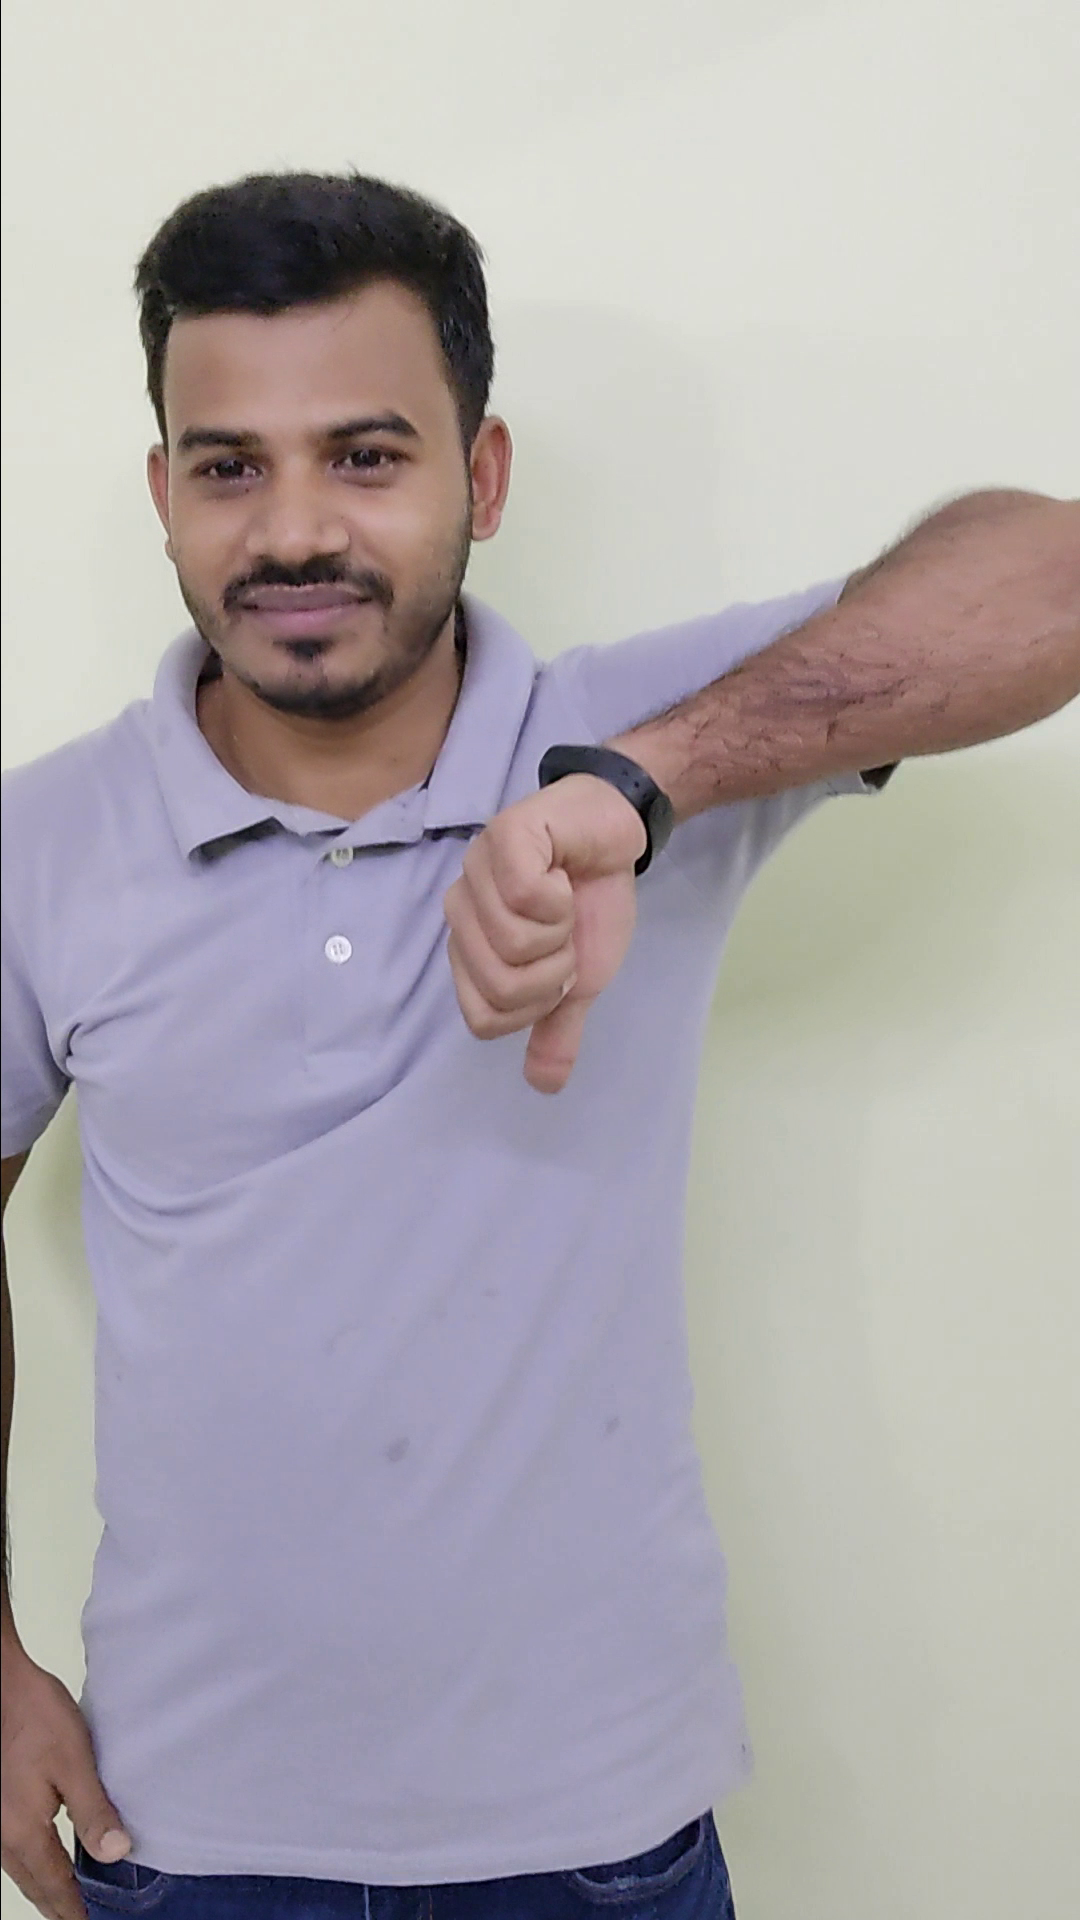Dislike: (430, 740, 658, 1114)
None: (0, 1623, 165, 1920)
